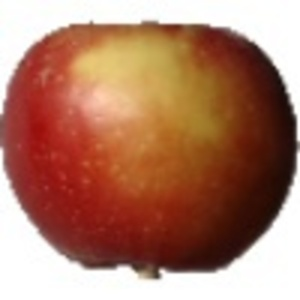maçã braeburn: (1, 16, 299, 272)
